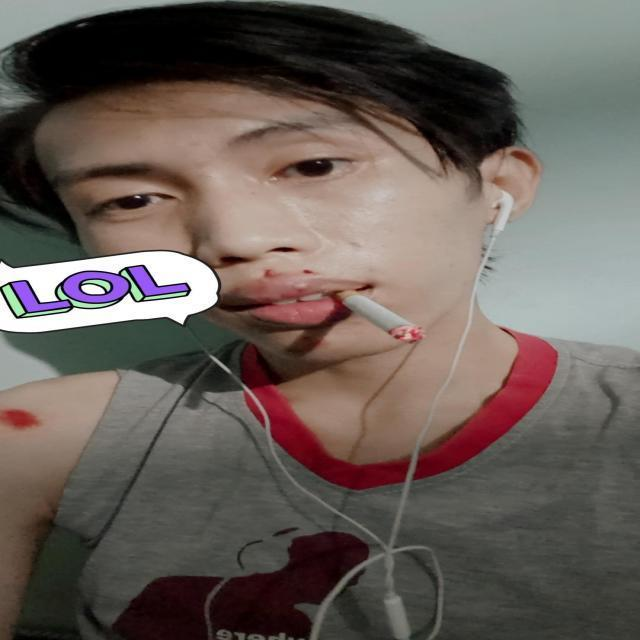rokok: (334, 287, 426, 351)
